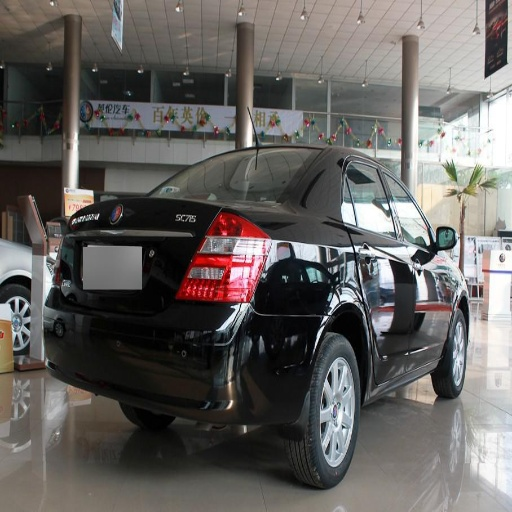back_right_door: (344, 156, 409, 370)
tailgate: (137, 196, 216, 315)
trunk: (61, 200, 173, 345)
